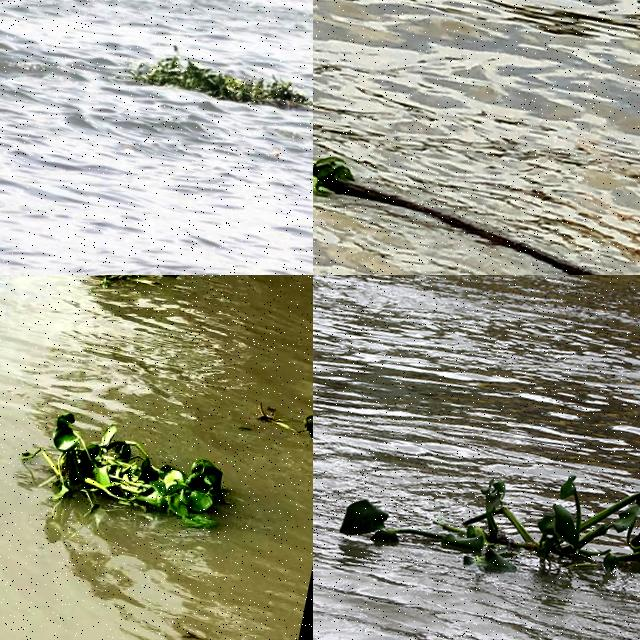water-hyacinth: (343, 458, 640, 584), (17, 403, 248, 549), (117, 36, 314, 118), (250, 395, 314, 446), (315, 151, 359, 198), (89, 276, 179, 291)
